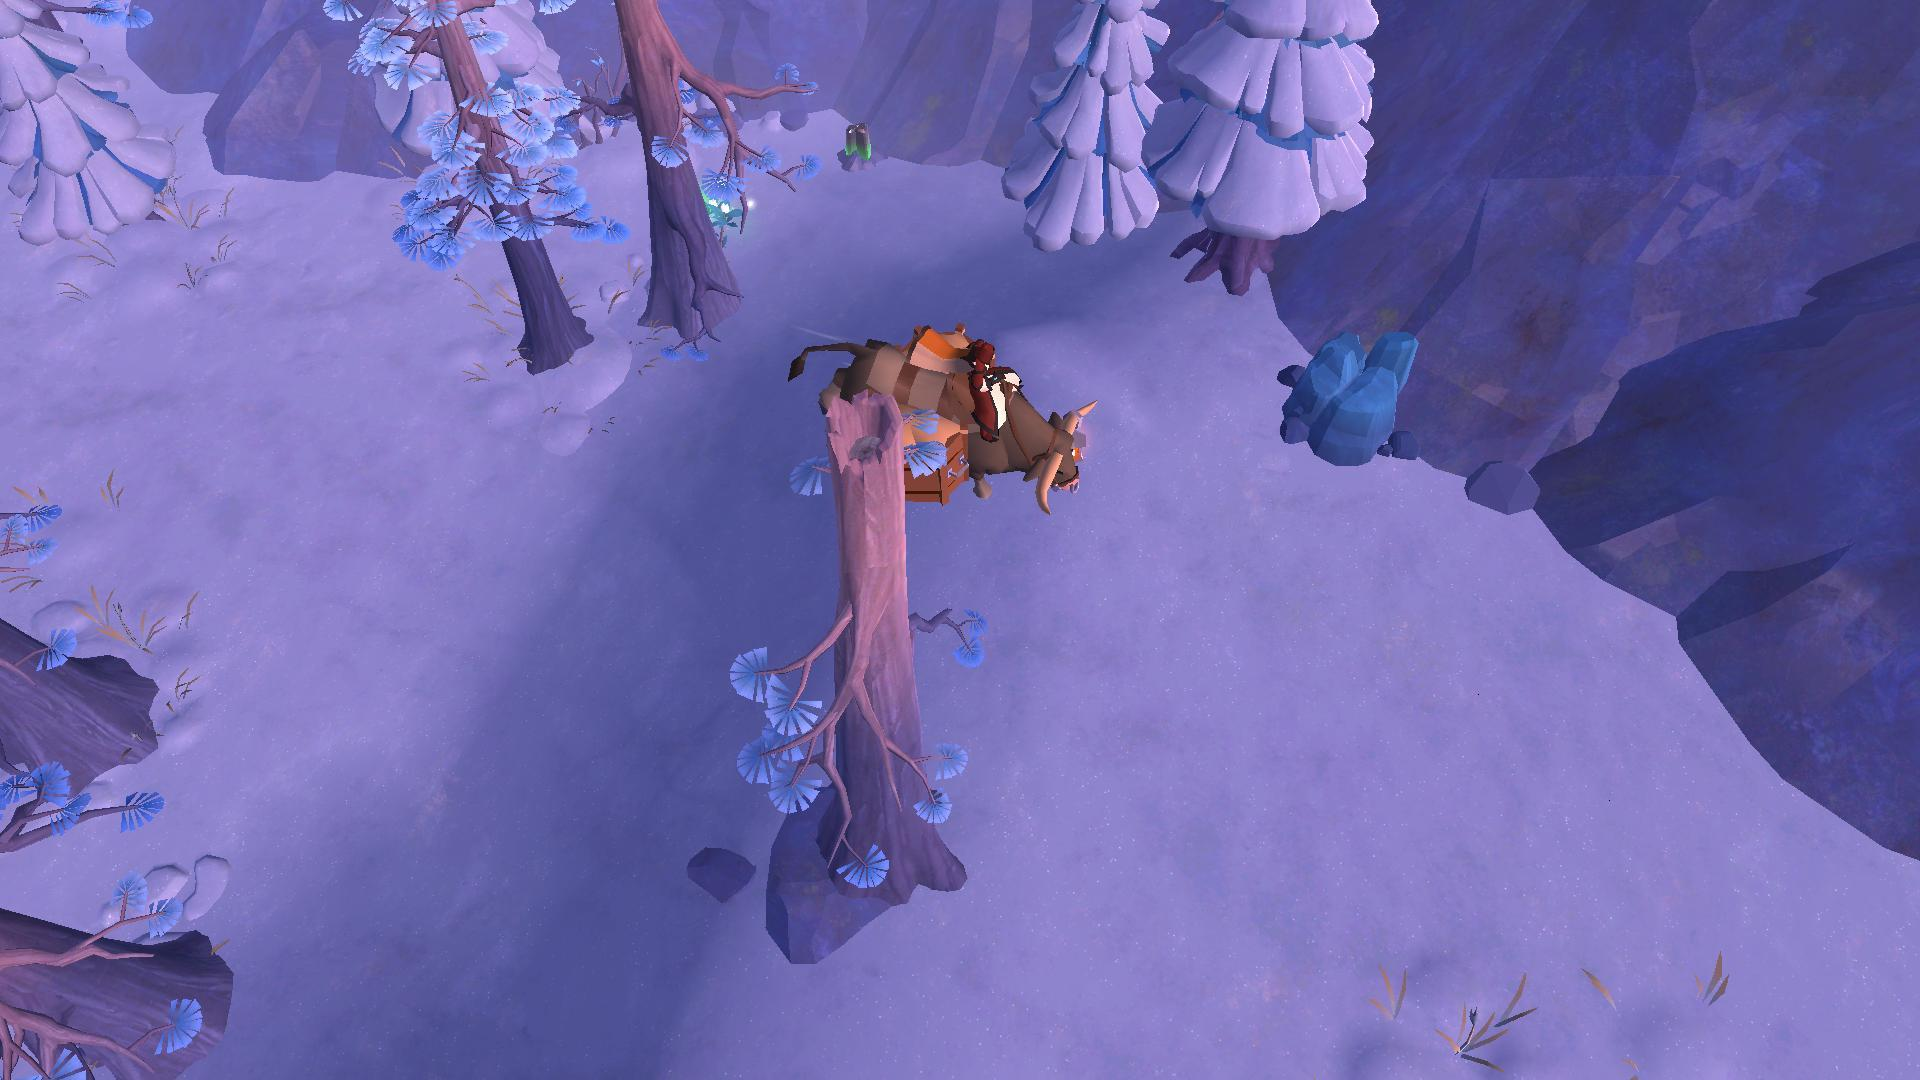ore_t3: (839, 116, 877, 161)
rock_t4: (1273, 327, 1415, 469)
